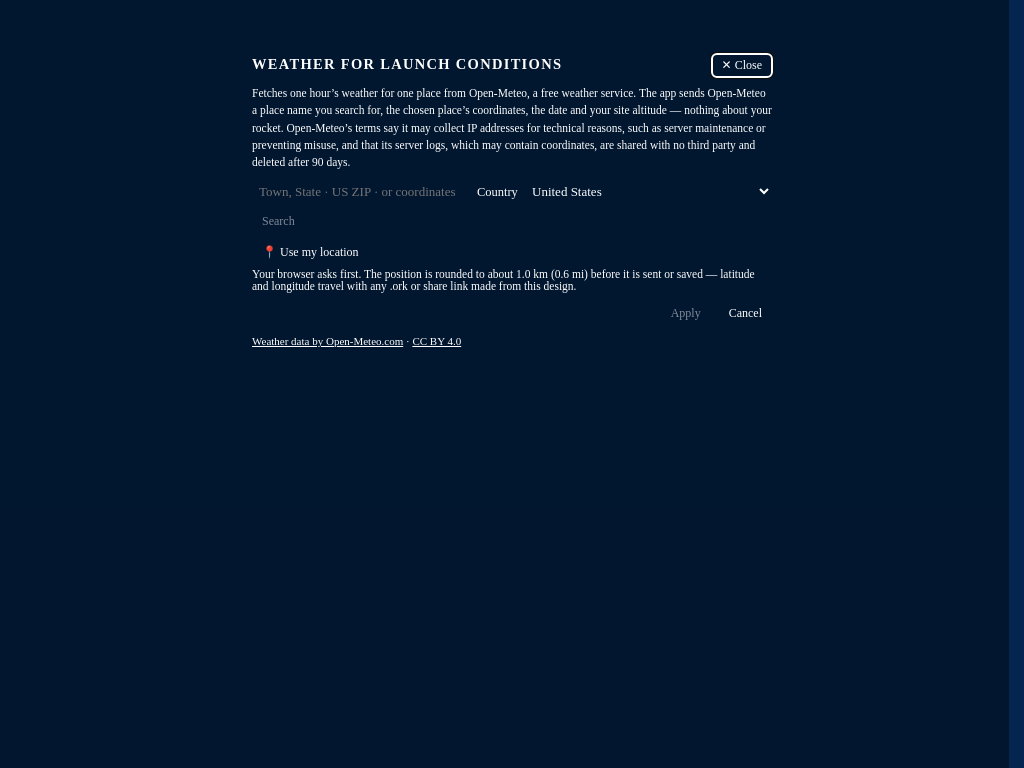
Test case: keeps the location outcome in an established status region
Click the button "📍 Use my location".
click(310, 253)  # box top-left (252, 241), bottom-right (369, 264)
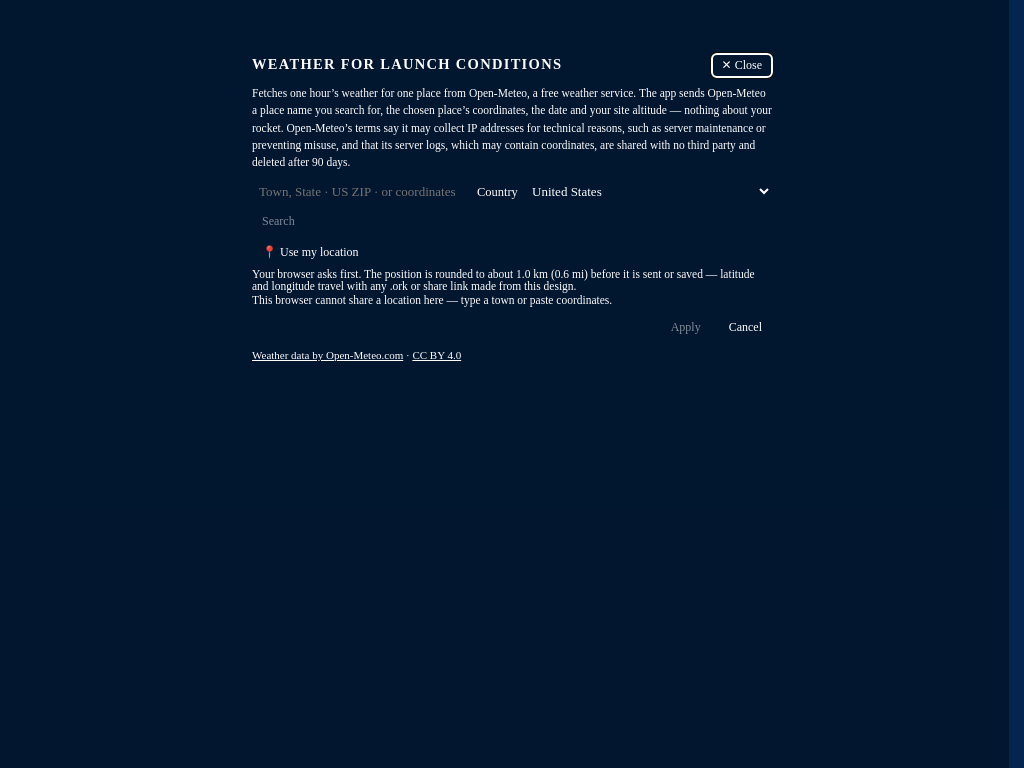
Now the message "This browser cannot share a location here — type a town or paste coordinates." is shown, box top-left (252, 294), bottom-right (612, 306)
